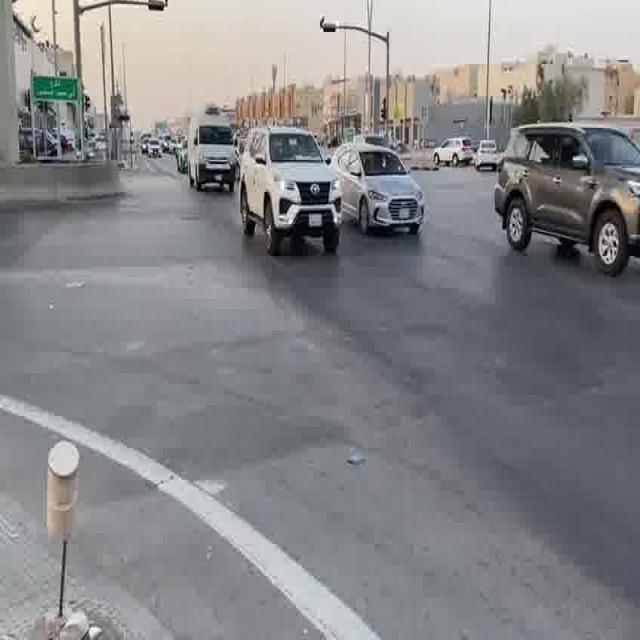bus: (494, 124, 640, 278), (239, 125, 343, 255), (330, 146, 426, 236), (185, 118, 238, 194), (432, 138, 476, 170), (475, 140, 500, 171), (147, 138, 163, 156)
car: (179, 209, 640, 640), (494, 124, 640, 278), (239, 125, 343, 255), (330, 146, 426, 236), (185, 118, 238, 194), (432, 138, 476, 170), (475, 140, 500, 171), (147, 138, 163, 156)
lanes: (179, 209, 640, 640), (226, 209, 639, 634)
lanes2: (226, 209, 639, 634), (260, 205, 640, 474)
lanes3: (260, 205, 640, 474), (286, 201, 640, 404)
lanes4: (286, 201, 640, 404), (327, 192, 640, 313)
lanes5: (327, 192, 640, 313)
